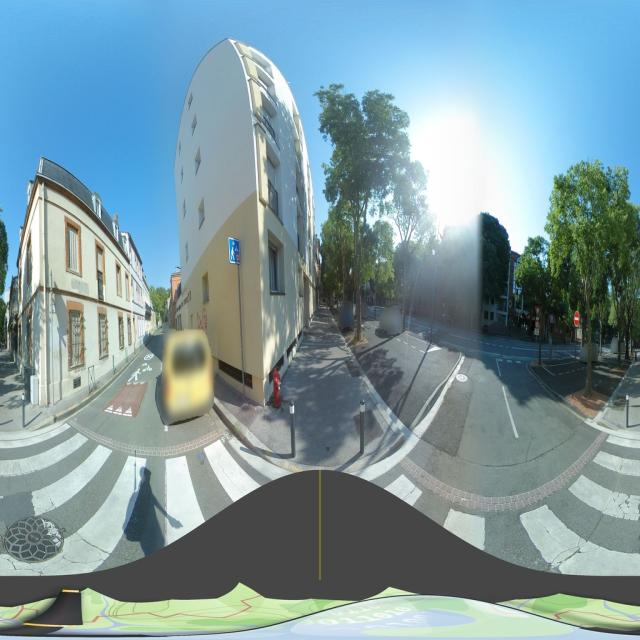forb_stopping: (574, 310, 580, 328)
